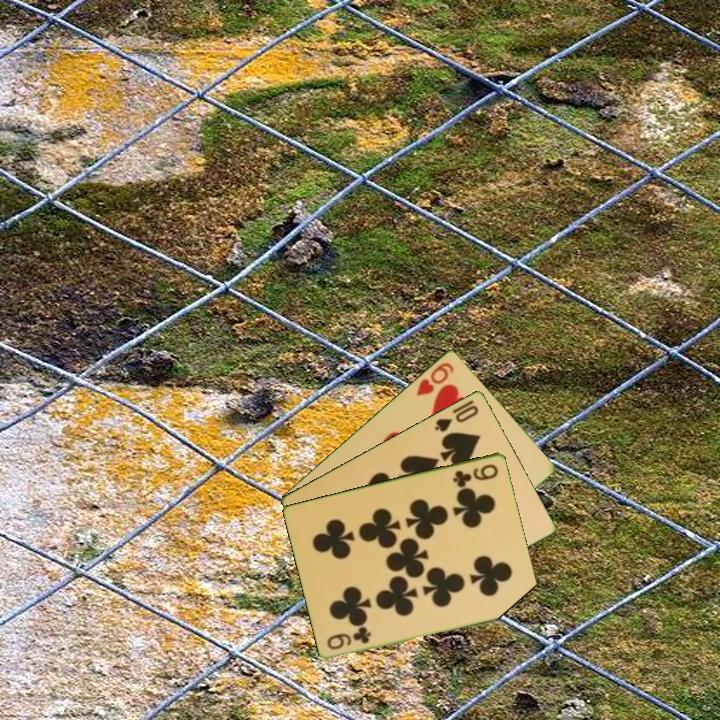10s: (431, 401, 481, 435)
6h: (412, 358, 457, 399)
9c: (449, 460, 501, 489), (324, 624, 374, 652)
